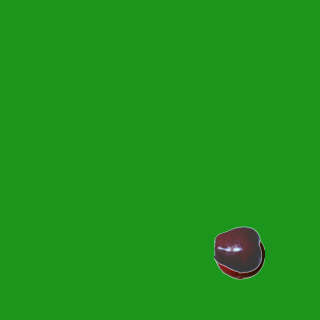Apple Braeburn: (214, 229, 264, 279)
Apple Red Delicious: (213, 224, 263, 274)
